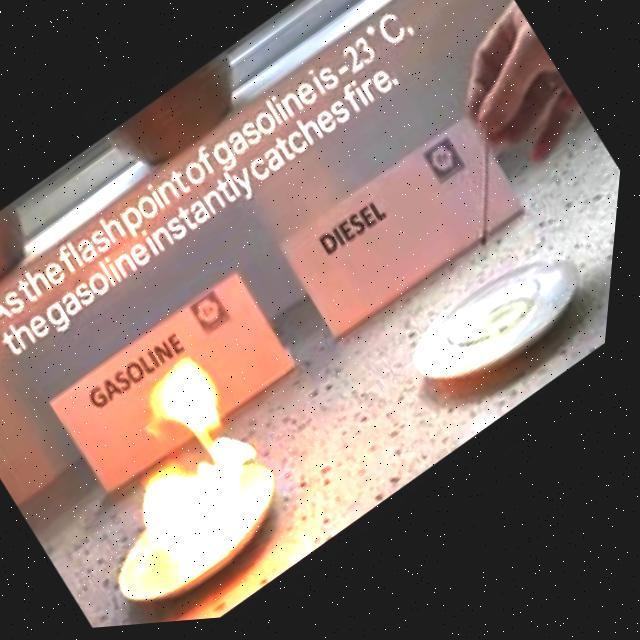Fire: (73, 337, 309, 585)
